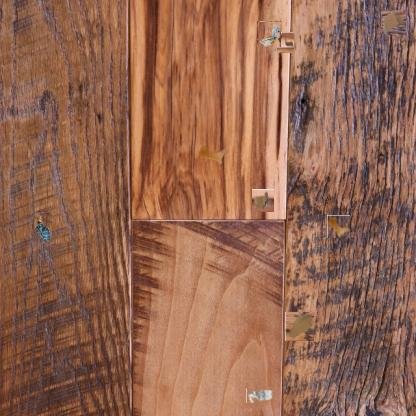dirty: (285, 312, 314, 341), (257, 21, 281, 47), (382, 9, 406, 35), (34, 212, 52, 242), (252, 190, 275, 212), (246, 387, 273, 403), (276, 33, 295, 53)
liquid: (198, 146, 228, 166), (327, 215, 350, 238)
